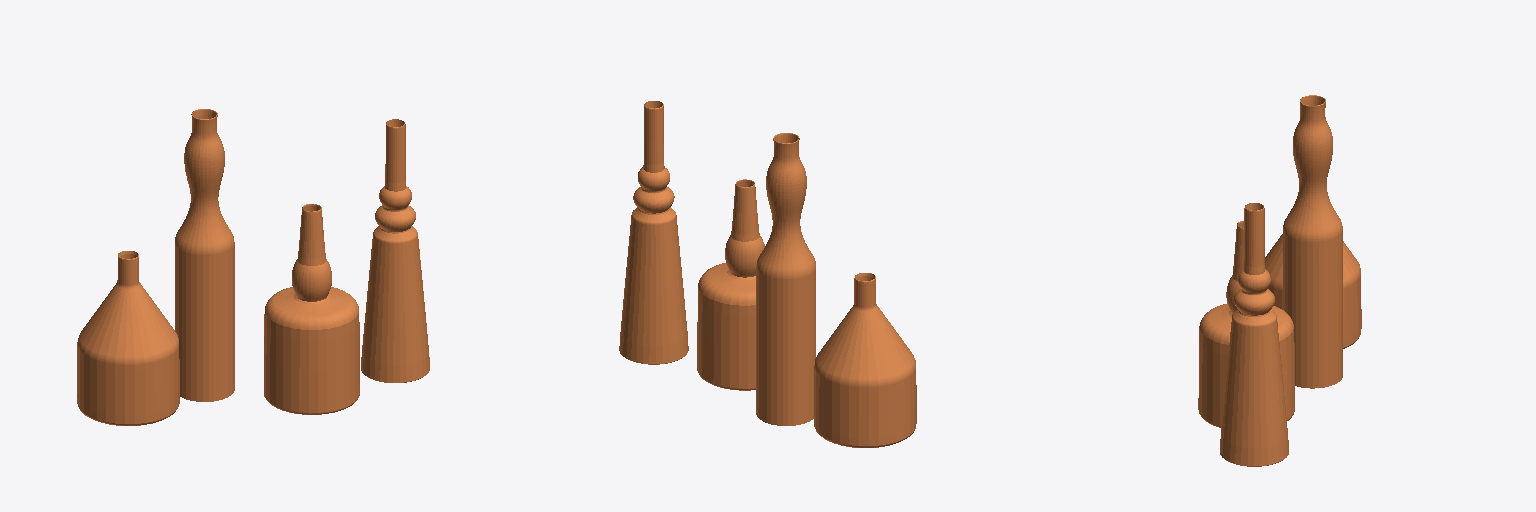
File: Vases-2.obj
3 views of the same model, side by side, from view 1: azimuth 30°, elevation 25°; view 2: azimuth 150°, elevation 25°; view 3: azimuth 270°, elevation 25° (orthographic).
Parts seen in each view (by area): view 1: Line009, Line008, Line010, Line007; view 2: Line009, Line010, Line007, Line008; view 3: Line009, Line007, Line008, Line010.
Boxes of the visible parts, x1=… form: Line009: x1=175, y1=109, x2=234, y2=401; Line008: x1=264, y1=204, x2=359, y2=414; Line010: x1=77, y1=251, x2=179, y2=425; Line007: x1=361, y1=119, x2=429, y2=382; Line009: x1=756, y1=133, x2=815, y2=425; Line010: x1=814, y1=273, x2=916, y2=447; Line007: x1=619, y1=101, x2=688, y2=364; Line008: x1=697, y1=179, x2=764, y2=390; Line009: x1=1283, y1=95, x2=1342, y2=388; Line007: x1=1220, y1=203, x2=1288, y2=466; Line008: x1=1198, y1=221, x2=1294, y2=427; Line010: x1=1265, y1=234, x2=1361, y2=348.
Size of the model in its own units: 96.77 by 81.53 by 43.55.